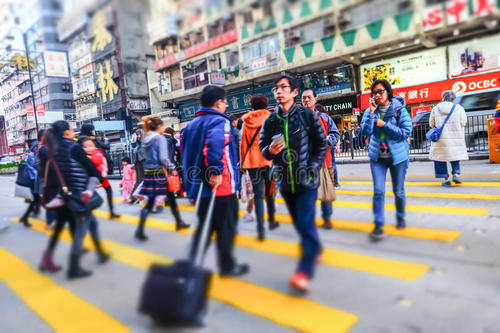no_mask: (268, 70, 299, 106), (365, 77, 390, 108), (299, 85, 319, 112)
